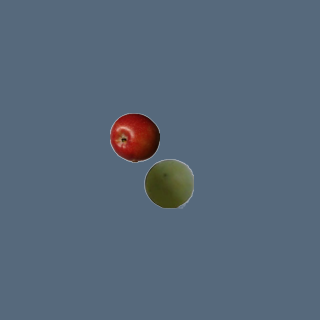Apple Braeburn: (109, 112, 159, 162)
Grape White 4: (143, 158, 193, 208)
